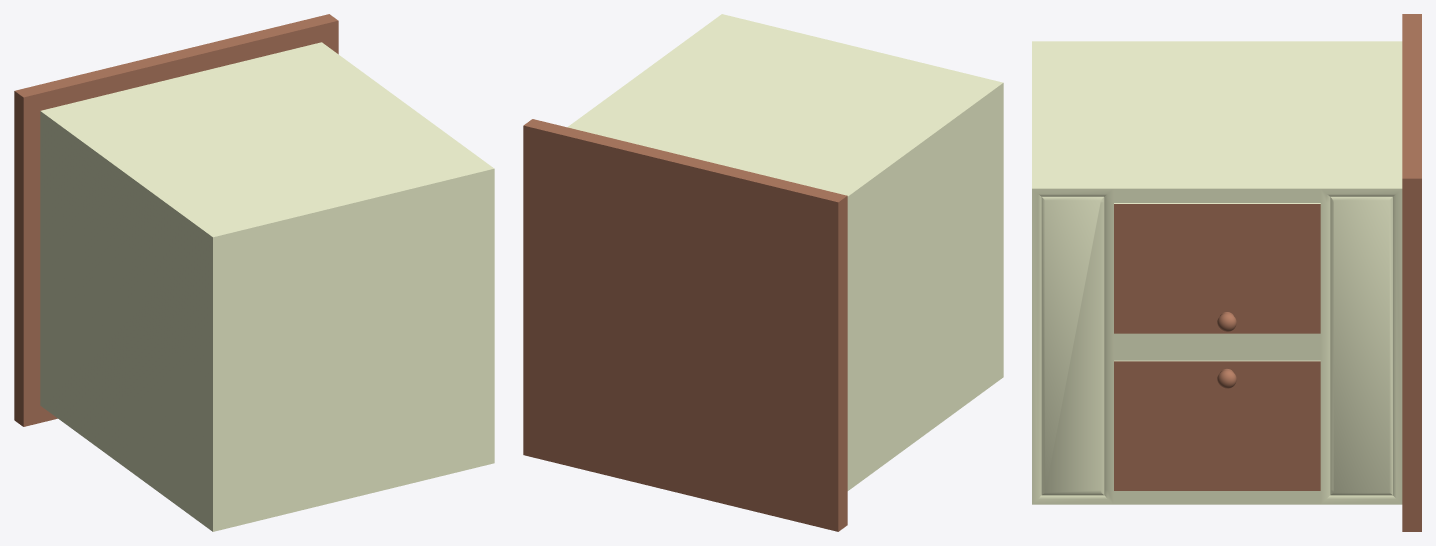
The model's file is counter.fbx.
The picture shows the model from 3 angles, left to right: view 1: azimuth 30°, elevation 25°; view 2: azimuth 150°, elevation 25°; view 3: azimuth 270°, elevation 25°; orthographic projection. The views are drawn at different scales.
Visible parts, largest first — view 1: Cube; view 2: Cube; view 3: Cube.
Part boxes in pixels (x1,y1,x2,y2): Cube: (14,14,494,531); Cube: (523,14,1003,531); Cube: (1032,14,1421,531).
Size of the model in its own units: 2 by 2 by 2.
